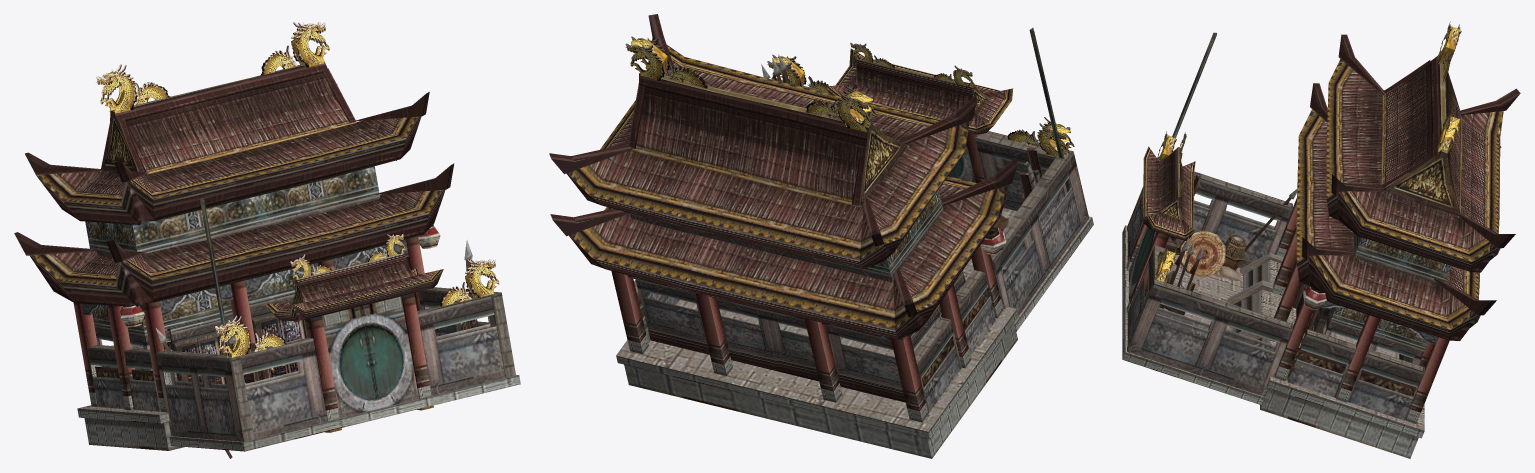
Rendered from china_waracademy.fbx.
3 views of the same model, side by side, from view 1: azimuth 30°, elevation 25°; view 2: azimuth 150°, elevation 25°; view 3: azimuth 270°, elevation 25° (orthographic). The views are drawn at different scales.
Parts seen in each view (by area): view 1: Object01, Object03, Object02; view 2: Object01, Object03, Object02; view 3: Object01, Object03, Object02.
Boxes of the visible parts, x1,y1,x2,y2 form: Object01: (14, 22, 520, 451); Object03: (87, 249, 515, 441); Object02: (119, 225, 473, 458); Object01: (549, 14, 1093, 458); Object03: (634, 80, 1088, 413); Object02: (761, 54, 1006, 254); Object01: (1122, 21, 1520, 458); Object03: (1127, 171, 1427, 420); Object02: (1161, 189, 1326, 309).
Size of the model in its own units: 9.41 by 10.07 by 9.22.
Materials: 2 (2 with a texture image).
